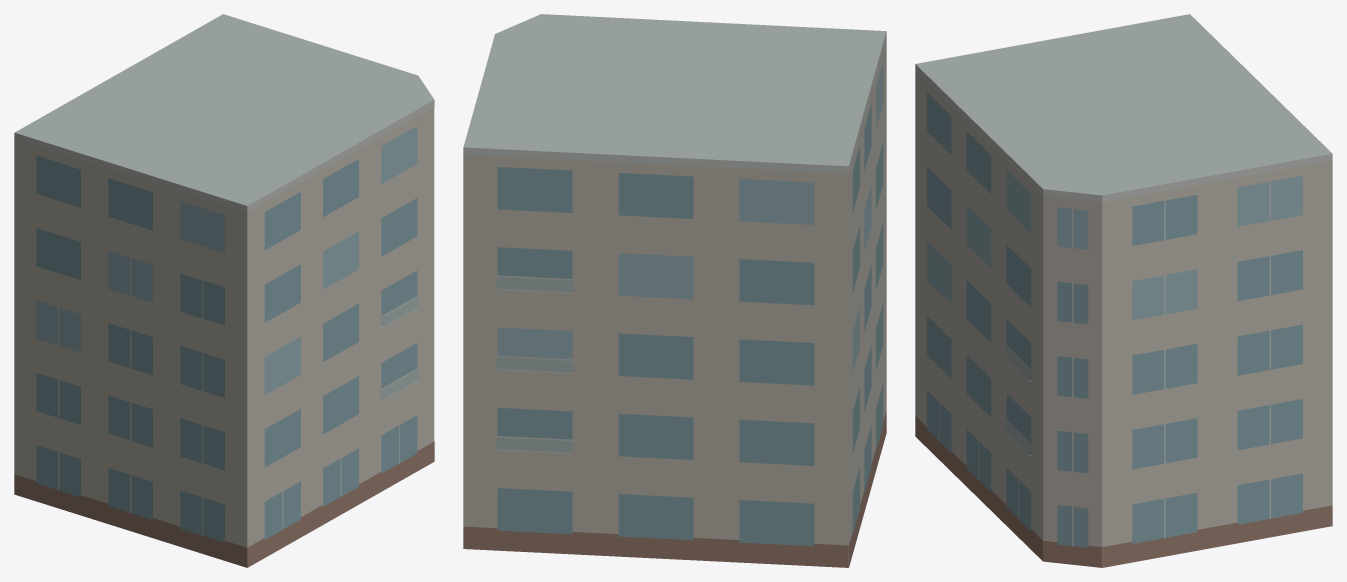
The model's file is survey-upis-32582138.glb.
3 views of the same model, side by side, from view 1: azimuth 30°, elevation 25°; view 2: azimuth 150°, elevation 25°; view 3: azimuth 270°, elevation 25° (orthographic). The views are drawn at different scales.
Visible parts, largest first — view 1: survey-upis-32582138.tmp; view 2: survey-upis-32582138.tmp; view 3: survey-upis-32582138.tmp.
Part boxes in pixels (box(x1,y1,x2,y2)): survey-upis-32582138.tmp: box(14, 14, 434, 567); survey-upis-32582138.tmp: box(463, 14, 886, 567); survey-upis-32582138.tmp: box(915, 14, 1332, 567).
Bounding box in the file's own units: 14.01 × 13.4 × 13.62.
